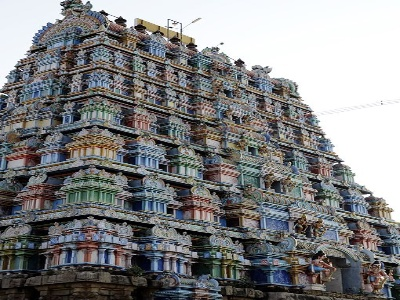gopura: (12, 13, 387, 274)
